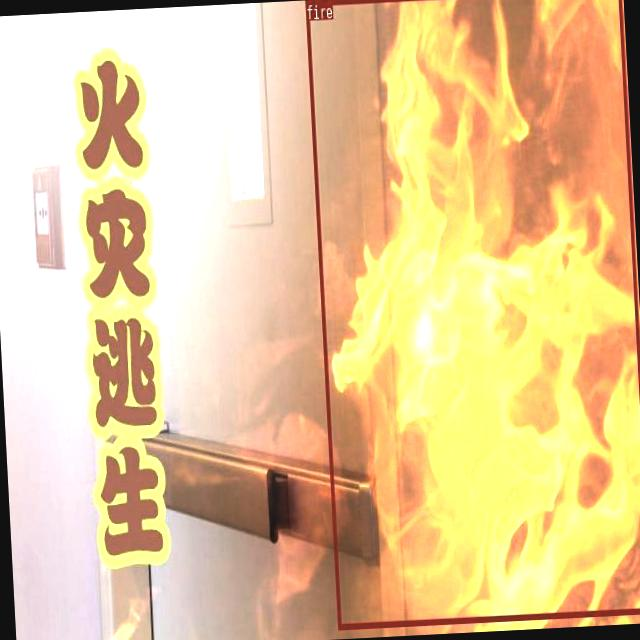fire: (304, 0, 640, 629)
